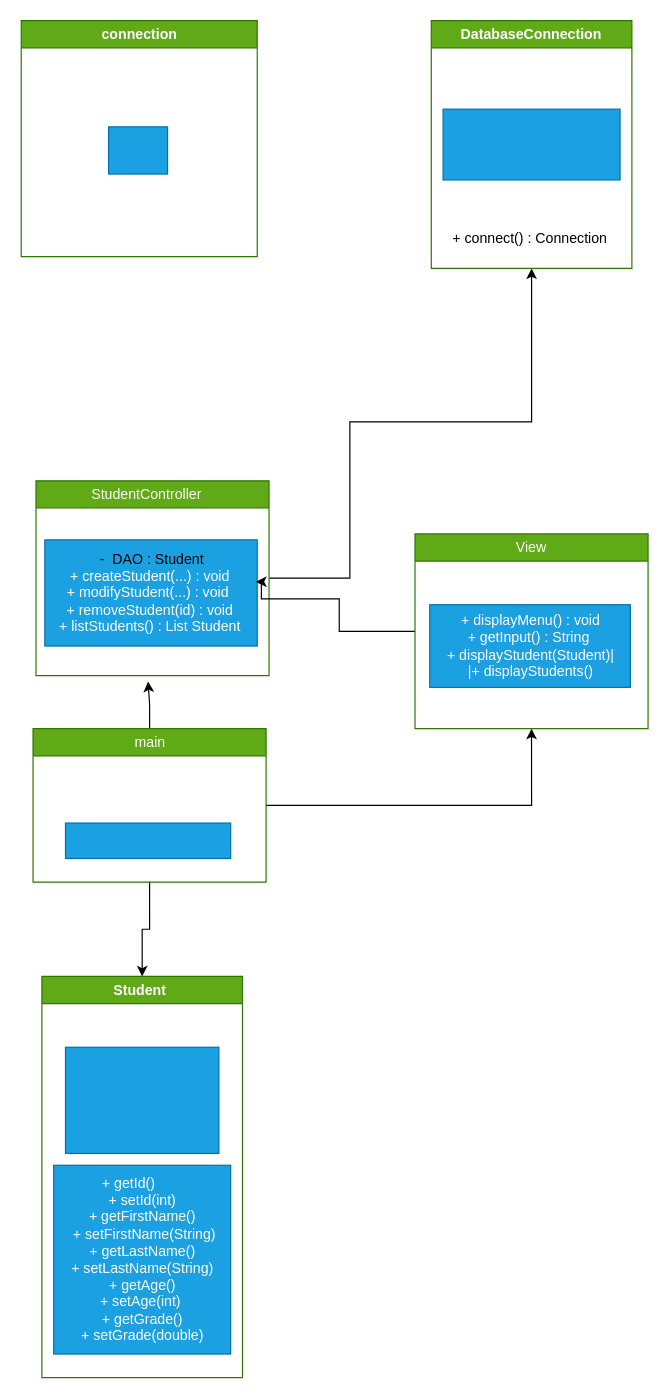
This 669x1398 diagram has some shape labels left out. Here are the shapes that lost their labels. From the top down, the centre of each, then its label:
the point at 531,144: + URL : String + USER : String + PASSWORD : String
the point at 147,840: + main(args : String[])
the point at 141,1099: - id : int - firstName : String - lastName : String - age : int - grade : int
